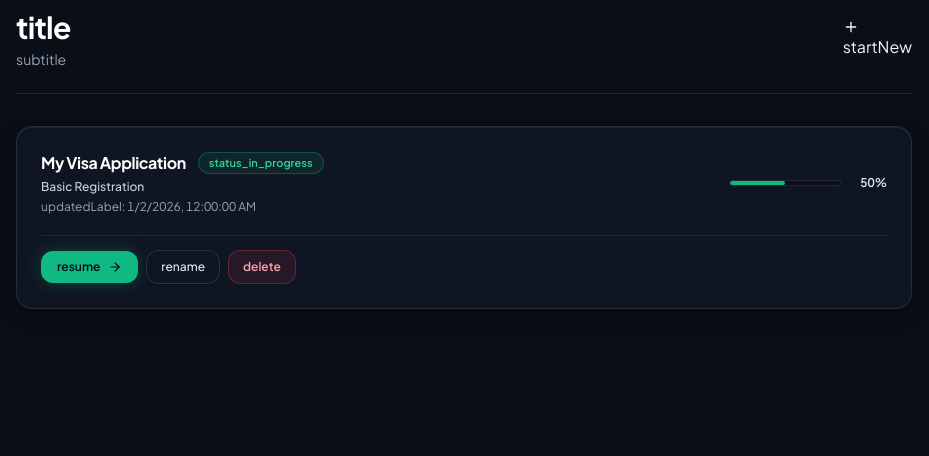
Test: My Applications page › deletes an application after confirmation
The width and height of the screenshot is (929, 456).
Expected: the heading "My Visa Application" is shown, [41,151,186,175]
Click the button "delete": (262, 267) [228,250,296,284]
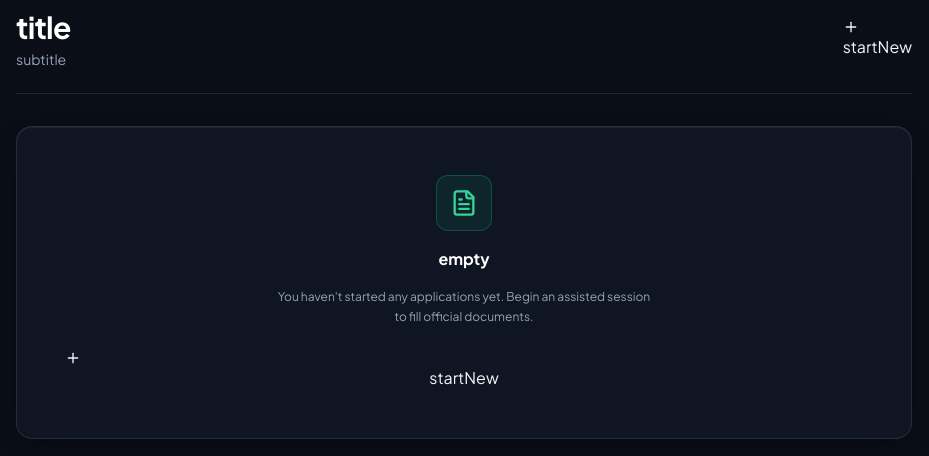
Expected: the heading "My Visa Application" is gone
